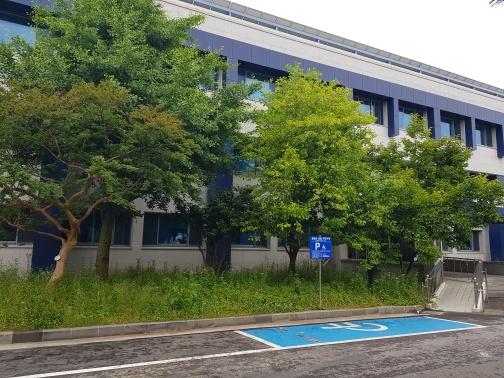College of Social Sciences: (19, 9, 502, 272)
